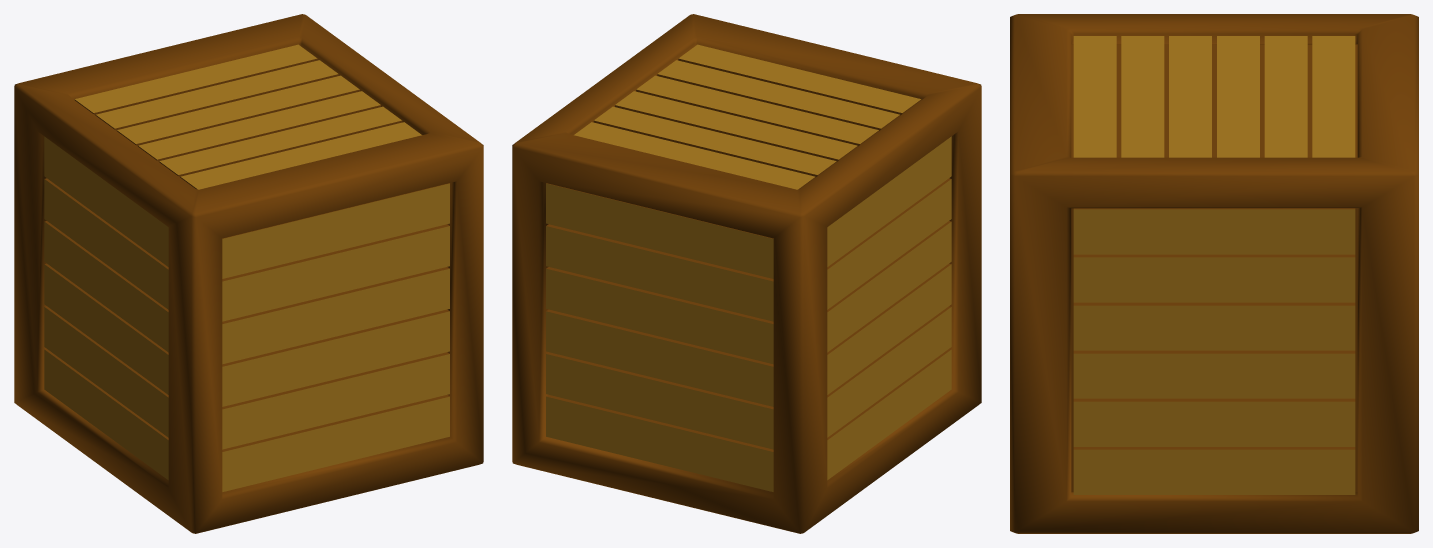
The model's file is caixa_nova 1.fbx.
3 renders of one model, left to right at view 1: azimuth 30°, elevation 25°; view 2: azimuth 150°, elevation 25°; view 3: azimuth 270°, elevation 25°, orthographic. The views are drawn at different scales.
Parts seen in each view (by area): view 1: caixa.001; view 2: caixa.001; view 3: caixa.001.
Boxes of the visible parts, x1=… form: caixa.001: x1=14, y1=14, x2=483, y2=533; caixa.001: x1=512, y1=14, x2=981, y2=533; caixa.001: x1=1010, y1=14, x2=1418, y2=533.
Bounding box in the file's own units: 54.5 × 57.23 × 58.59.
